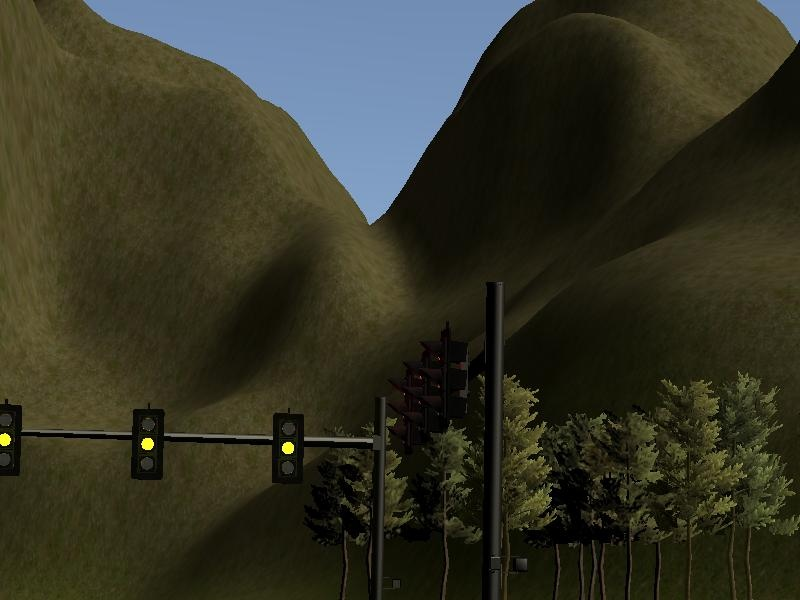YELLOW: (132, 410, 165, 482), (271, 413, 304, 485), (1, 402, 24, 476)
